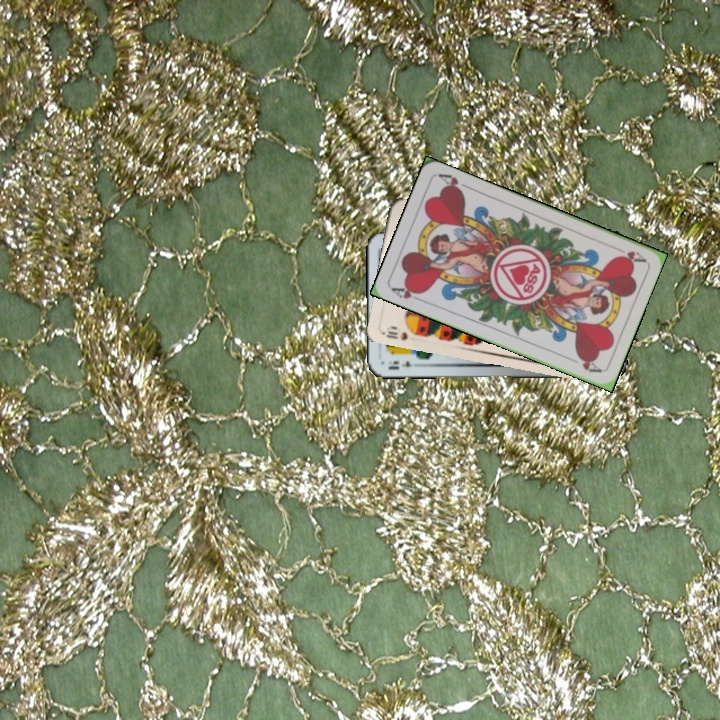EK: (385, 356, 414, 372)
HA: (388, 282, 427, 305), (609, 242, 648, 265)
S10: (380, 322, 421, 343)
